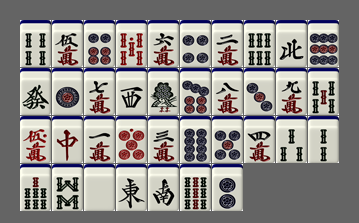0m: (20, 116, 51, 163)
0p: (116, 116, 147, 163)
0s: (116, 20, 147, 67)
1m: (84, 116, 115, 163)
1p: (52, 68, 83, 115)
1s: (148, 68, 179, 115)
1z: (116, 164, 147, 211)
2m: (212, 20, 243, 67)
2p: (212, 164, 243, 211)
2s: (308, 116, 339, 163)
2z: (148, 164, 179, 211)
3m: (148, 116, 179, 163)
3p: (244, 68, 275, 115)
3s: (276, 116, 307, 163)
3z: (116, 68, 147, 115)
4m: (244, 116, 275, 163)
4p: (180, 20, 211, 67)
4s: (20, 20, 51, 67)
4z: (276, 20, 307, 67)
5m: (52, 20, 83, 67)
5p: (212, 116, 243, 163)
5s: (308, 68, 339, 115)
5z: (84, 164, 115, 211)
6m: (148, 20, 179, 67)
6p: (84, 20, 115, 67)
6s: (244, 20, 275, 67)
6z: (20, 68, 51, 115)
7m: (84, 68, 115, 115)
7p: (180, 68, 211, 115)
7s: (20, 164, 51, 211)
7z: (52, 116, 83, 163)
8m: (212, 68, 243, 115)
8p: (180, 116, 211, 163)
8s: (52, 164, 83, 211)
9m: (276, 68, 307, 115)
9p: (308, 20, 339, 67)
9s: (180, 164, 211, 211)
